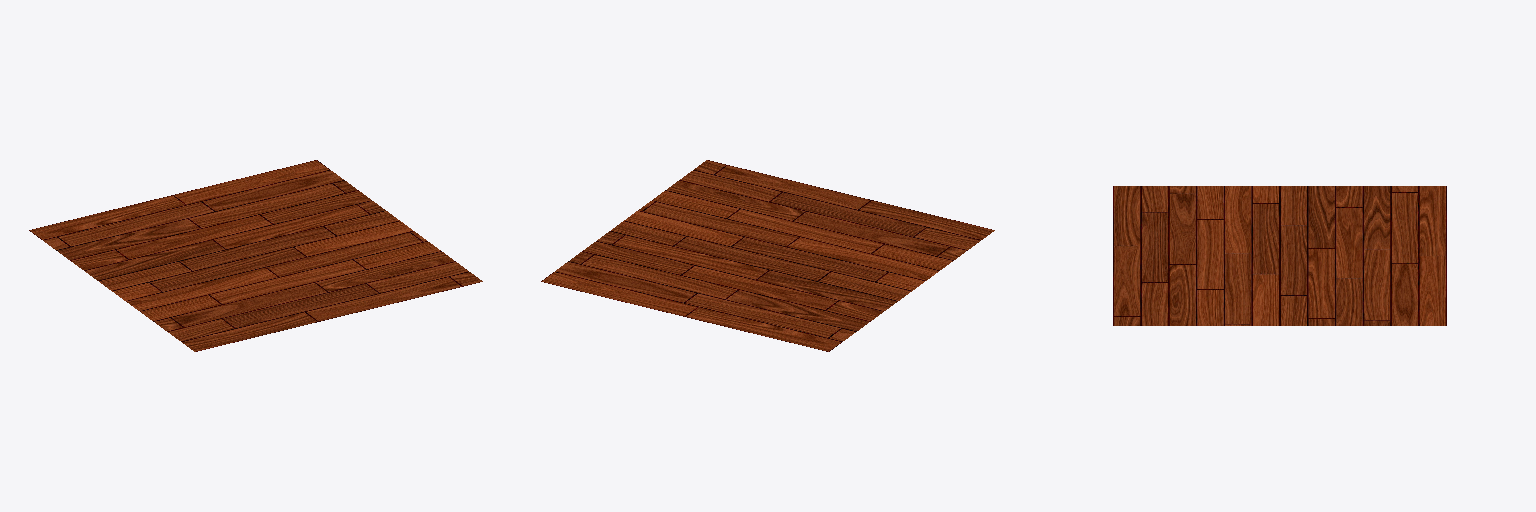
3 renders of one model, left to right at view 1: azimuth 30°, elevation 25°; view 2: azimuth 150°, elevation 25°; view 3: azimuth 270°, elevation 25°, orthographic.
Size of the model in its own units: 25 by 0 by 25.
Materials: 1 (1 with a texture image).